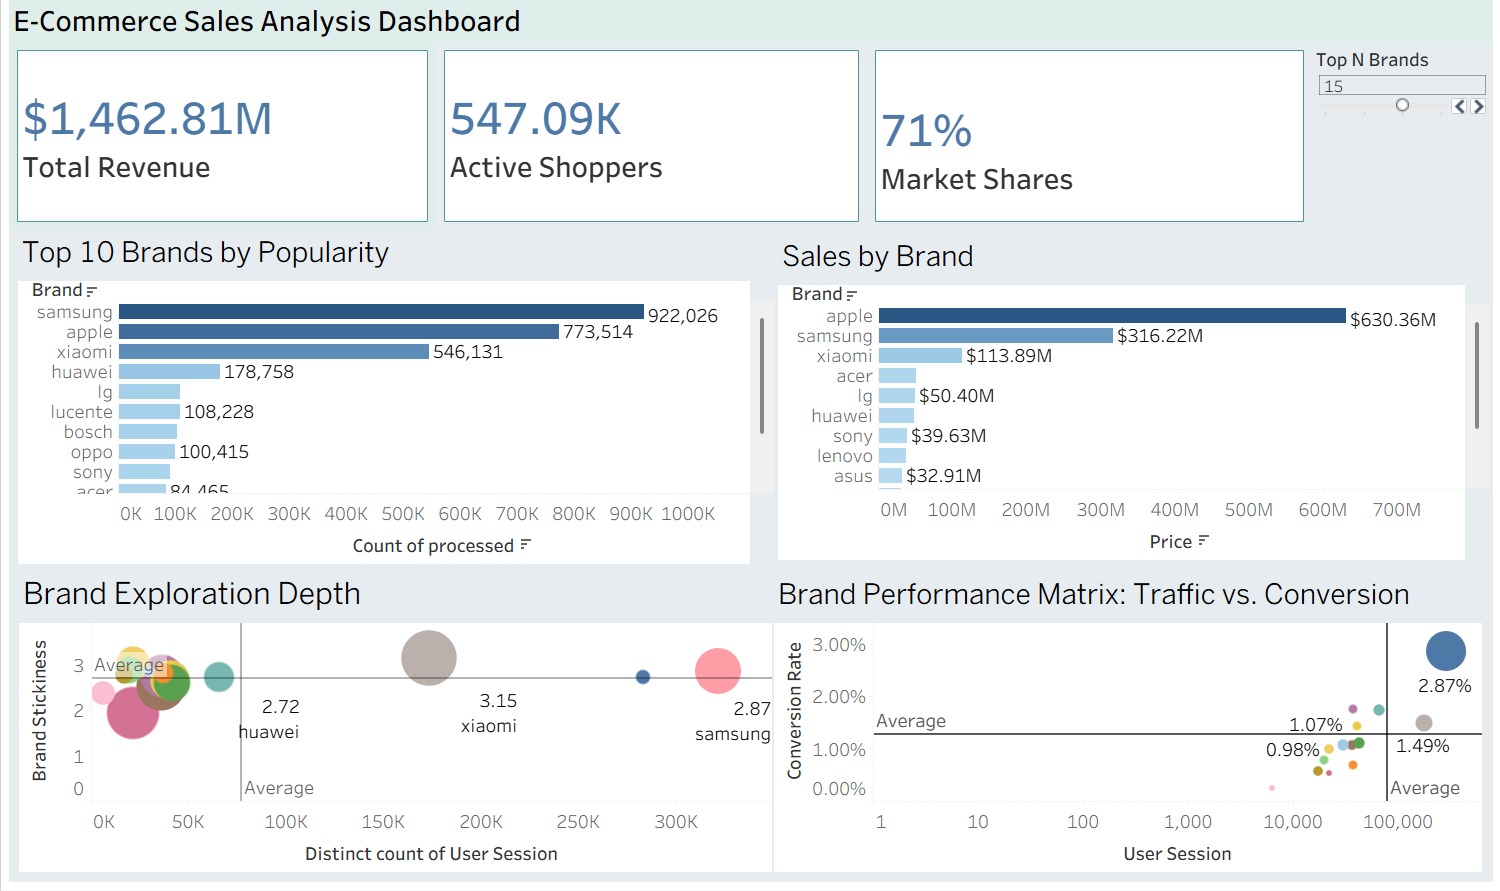

This screenshot's page, from the dashboard's own definition file:
{"tool":"tableau","page":{"name":"Dashboard 1","canvas":[1500,900],"ordinal":0},"visuals":[{"type":"text","box":[8,8,1484,44]},{"type":"worksheet","title":"Sheet 4","mark":"Automatic","box":[8,52,575.9,188.3]},{"type":"worksheet","title":"Sheet 5","mark":"Automatic","box":[583.9,52,416,188.3]},{"type":"worksheet","title":"Sheet 6","mark":"Automatic","box":[999.9,52,317,188.3]},{"type":"parameter","param":"[Parameters].[Parameter 1]","box":[1316.9,52,175.1,188.3]},{"type":"worksheet","title":"Sheet 1","mark":"Automatic","rows":["brand"],"cols":["processed_4B984B4A0E344321A44BE972E7E79C43"],"box":[8,240.3,765,333.8]},{"type":"worksheet","title":"Sheet 2","mark":"Automatic","rows":["brand"],"cols":["price"],"box":[773,240.3,719,333.8]},{"type":"worksheet","title":"Sheet 9","mark":"Circle","rows":["Calculation_0982993867517952"],"cols":["user_session"],"box":[8,574,765,318]},{"type":"worksheet","title":"Sheet 8","mark":"Circle","rows":["Calculation_1716642607362050"],"cols":["user_session"],"box":[773,574,719,318]}]}

Visuals, with their boxes in screenshot pixels (x1, y1, x2, y2), scaled from the page's 1500x900 canvas onto the 1500x891 screenshot:
text: x1=8 y1=8 x2=1492 y2=51
"Sheet 4" worksheet: x1=8 y1=51 x2=584 y2=238
"Sheet 5" worksheet: x1=584 y1=51 x2=1000 y2=238
"Sheet 6" worksheet: x1=1000 y1=51 x2=1317 y2=238
parameter: x1=1317 y1=51 x2=1492 y2=238
"Sheet 1" worksheet: x1=8 y1=238 x2=773 y2=568
"Sheet 2" worksheet: x1=773 y1=238 x2=1492 y2=568
"Sheet 9" worksheet (Circle marks): x1=8 y1=568 x2=773 y2=883
"Sheet 8" worksheet (Circle marks): x1=773 y1=568 x2=1492 y2=883
